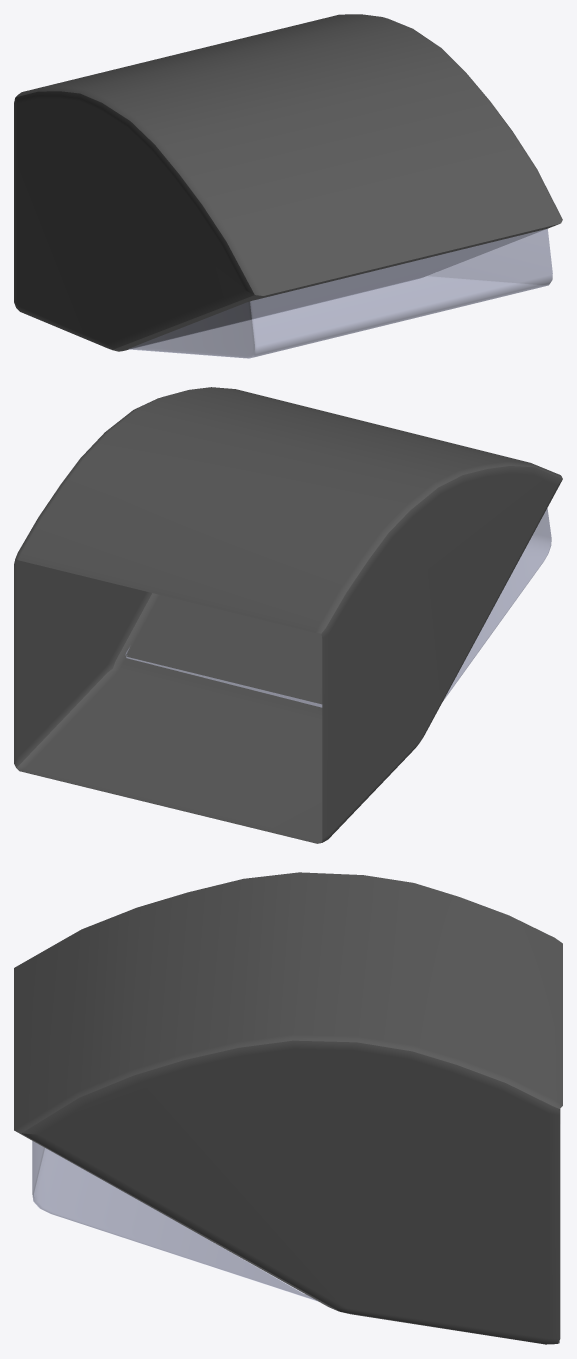
File: Exterior_Light.fbx
3 views of the same model, one above another, from view 1: azimuth 30°, elevation 25°; view 2: azimuth 150°, elevation 25°; view 3: azimuth 270°, elevation 25° (orthographic). The views are drawn at different scales.
Visible parts, largest first — view 1: polySurface787; view 2: polySurface787; view 3: polySurface787.
Boxes of the visible parts, x1=… form: polySurface787: x1=14, y1=14, x2=562, y2=358; polySurface787: x1=14, y1=387, x2=562, y2=843; polySurface787: x1=14, y1=872, x2=562, y2=1344.
Size of the model in its own units: 0.1535 by 0.1299 by 0.2087.
